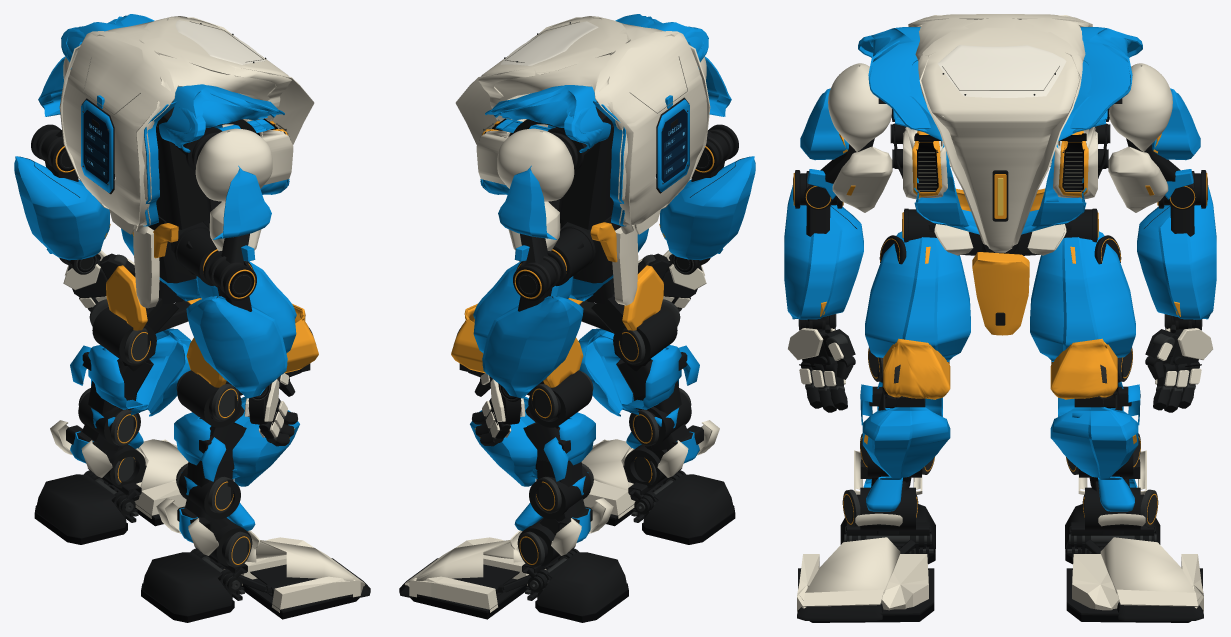
The model's file is appearance_c.glb.
3 renders of one model, left to right at view 1: azimuth 30°, elevation 25°; view 2: azimuth 150°, elevation 25°; view 3: azimuth 270°, elevation 25°, orthographic. The views are drawn at different scales.
Visible parts, largest first — view 1: continuous_ivory_torso_armor_cover, right_blue_forearm_wrap, left_blue_forearm_wrap, right_ivory_hood_window_side_lip, left_composite_high_heel_shell, right_composite_high_heel_shell, right_ivory_shoulder_cap, structure_spine_box, left_blue_middle_shank_wrap, right_blue_deltoid_wrap, right_blue_middle_shank_wrap, right_ivory_artwork_sloping_toe (+53 smaller); view 2: continuous_ivory_torso_armor_cover, left_blue_forearm_wrap, right_blue_forearm_wrap, left_ivory_hood_window_side_lip, right_composite_high_heel_shell, left_composite_high_heel_shell, left_ivory_shoulder_cap, structure_spine_box, right_blue_middle_shank_wrap, left_blue_deltoid_wrap, left_blue_middle_shank_wrap, left_ivory_artwork_sloping_toe (+53 smaller); view 3: continuous_ivory_torso_armor_cover, left_blue_thigh_wrap, right_blue_thigh_wrap, left_blue_forearm_wrap, right_blue_forearm_wrap, ivory_crown_inset, left_blue_middle_shank_wrap, right_blue_middle_shank_wrap, saffron_front_pelvis_cartridge, left_ivory_artwork_sloping_toe, right_ivory_artwork_sloping_toe, left_ivory_shoulder_cap (+45 smaller).
Boxes of the visible parts, bbox=[...] form: continuous_ivory_torso_armor_cover: bbox=[63, 16, 291, 225]; right_blue_forearm_wrap: bbox=[186, 296, 287, 398]; left_blue_forearm_wrap: bbox=[14, 156, 109, 260]; right_ivory_hood_window_side_lip: bbox=[136, 53, 314, 234]; left_composite_high_heel_shell: bbox=[35, 474, 126, 538]; right_composite_high_heel_shell: bbox=[142, 552, 232, 615]; right_ivory_shoulder_cap: bbox=[195, 128, 272, 201]; structure_spine_box: bbox=[156, 125, 211, 229]; left_blue_middle_shank_wrap: bbox=[136, 328, 191, 416]; right_blue_deltoid_wrap: bbox=[213, 165, 271, 239]; right_blue_middle_shank_wrap: bbox=[232, 396, 299, 486]; right_ivory_artwork_sloping_toe: bbox=[246, 540, 353, 580]; continuous_ivory_torso_armor_cover: bbox=[478, 16, 706, 225]; left_blue_forearm_wrap: bbox=[482, 296, 583, 398]; right_blue_forearm_wrap: bbox=[660, 156, 755, 260]; left_ivory_hood_window_side_lip: bbox=[455, 53, 633, 234]; right_composite_high_heel_shell: bbox=[643, 474, 734, 538]; left_composite_high_heel_shell: bbox=[537, 552, 627, 615]; left_ivory_shoulder_cap: bbox=[497, 128, 574, 201]; structure_spine_box: bbox=[558, 125, 613, 229]; right_blue_middle_shank_wrap: bbox=[578, 328, 633, 416]; left_blue_deltoid_wrap: bbox=[498, 165, 556, 239]; left_blue_middle_shank_wrap: bbox=[470, 396, 537, 486]; left_ivory_artwork_sloping_toe: bbox=[416, 540, 523, 580]; continuous_ivory_torso_armor_cover: bbox=[908, 14, 1092, 252]; left_blue_thigh_wrap: bbox=[1030, 231, 1135, 361]; right_blue_thigh_wrap: bbox=[865, 231, 970, 361]; left_blue_forearm_wrap: bbox=[1137, 185, 1216, 319]; right_blue_forearm_wrap: bbox=[784, 185, 863, 319]; ivory_crown_inset: bbox=[937, 45, 1066, 97]; left_blue_middle_shank_wrap: bbox=[1050, 407, 1138, 478]; right_blue_middle_shank_wrap: bbox=[862, 407, 950, 478]; saffron_front_pelvis_cartridge: bbox=[972, 252, 1029, 335]; left_ivory_artwork_sloping_toe: bbox=[1100, 537, 1195, 593]; right_ivory_artwork_sloping_toe: bbox=[805, 537, 900, 593]; left_ivory_shoulder_cap: bbox=[1109, 63, 1172, 152].
Size of the model in its own units: 1.07 by 2.65 by 1.93.
